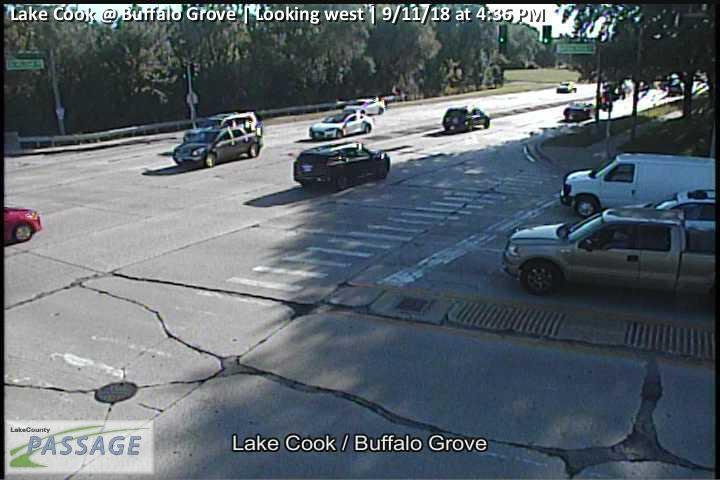SUV: (558, 152, 720, 220), (289, 137, 391, 192), (170, 110, 265, 169), (442, 106, 491, 133)
Sedan: (308, 108, 374, 139), (342, 96, 387, 114), (563, 101, 597, 121), (555, 80, 579, 94)
Truck: (500, 206, 720, 309)
